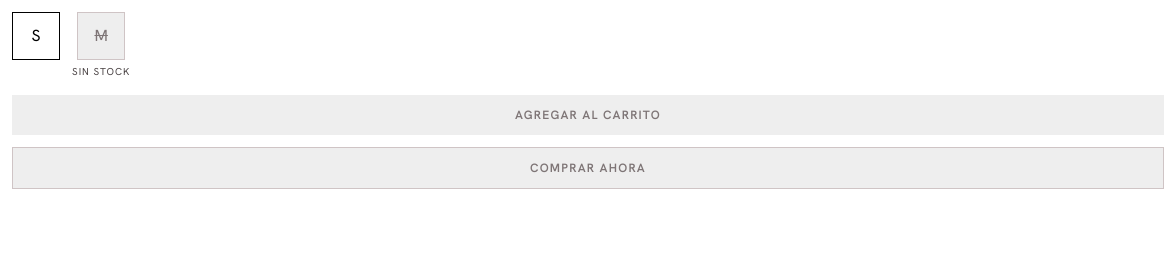
Test case: SizeSelector › add-to-cart confirmation feedback › shows Agregando… and disables the button while the add is in progress
Click the button "S" at (36, 36), box [12,12,60,60]
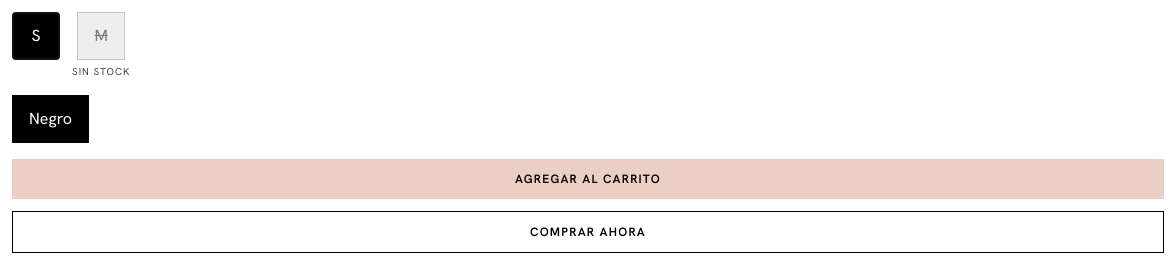
Click the button "Agregar al carrito" at (588, 179), box [12,159,1164,199]
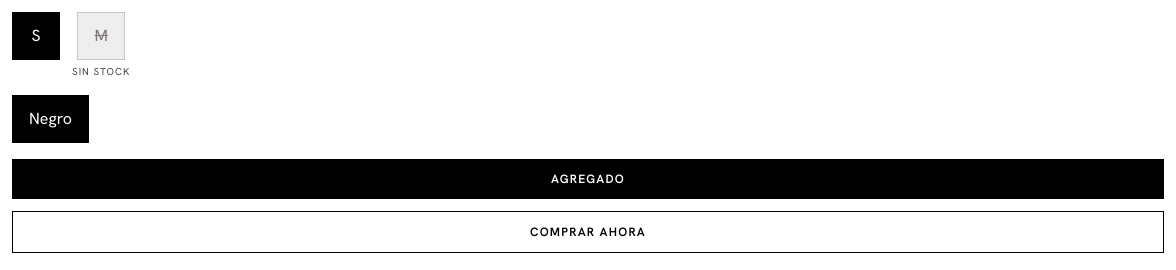
Result: the button named "Agregando…" is disabled at [12,159,1164,199]
